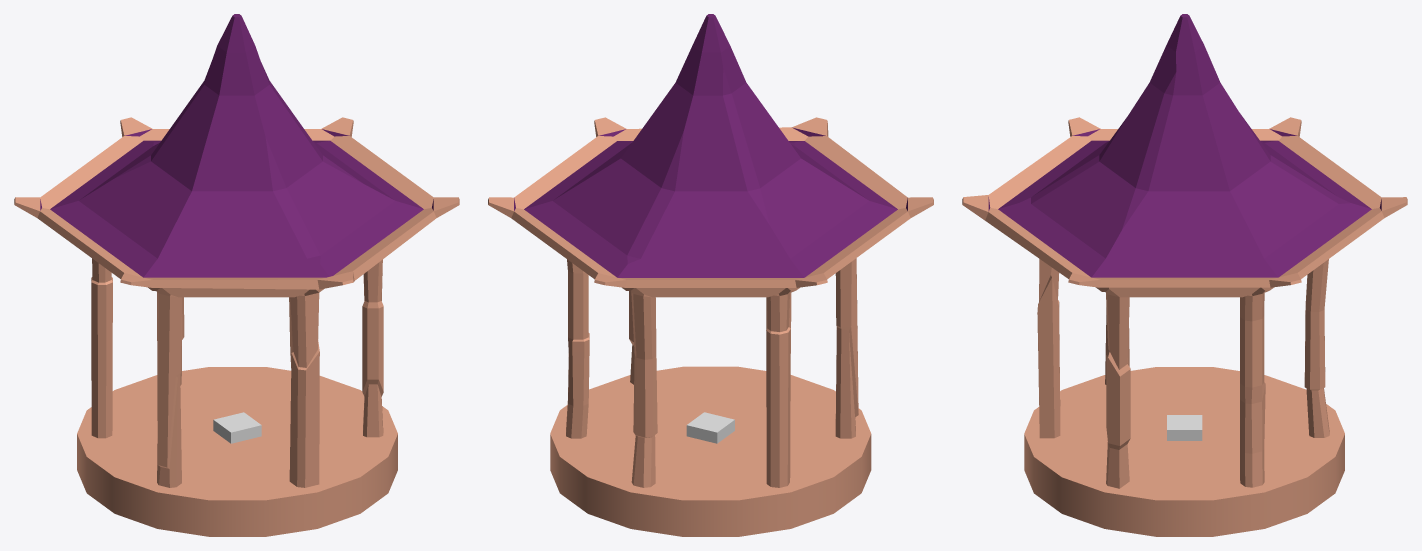
The model's file is gazeebo1.fbx.
3 renders of one model, left to right at view 1: azimuth 30°, elevation 25°; view 2: azimuth 150°, elevation 25°; view 3: azimuth 270°, elevation 25°, orthographic.
Visible parts, largest first — view 1: gazeebo, gazeebo_base, Cube; view 2: gazeebo, gazeebo_base, Cube; view 3: gazeebo, gazeebo_base, Cube.
Part boxes in pixels (box(x1,y1,x2,y2)): gazeebo: box(14, 14, 459, 487); gazeebo_base: box(77, 367, 397, 536); Cube: box(213, 412, 261, 443); gazeebo: box(488, 14, 933, 487); gazeebo_base: box(550, 366, 871, 536); Cube: box(686, 412, 734, 443); gazeebo: box(962, 14, 1407, 488); gazeebo_base: box(1024, 367, 1344, 536); Cube: box(1167, 415, 1202, 440).
Bounding box in the file's own units: 2217 × 2838 × 2520.
